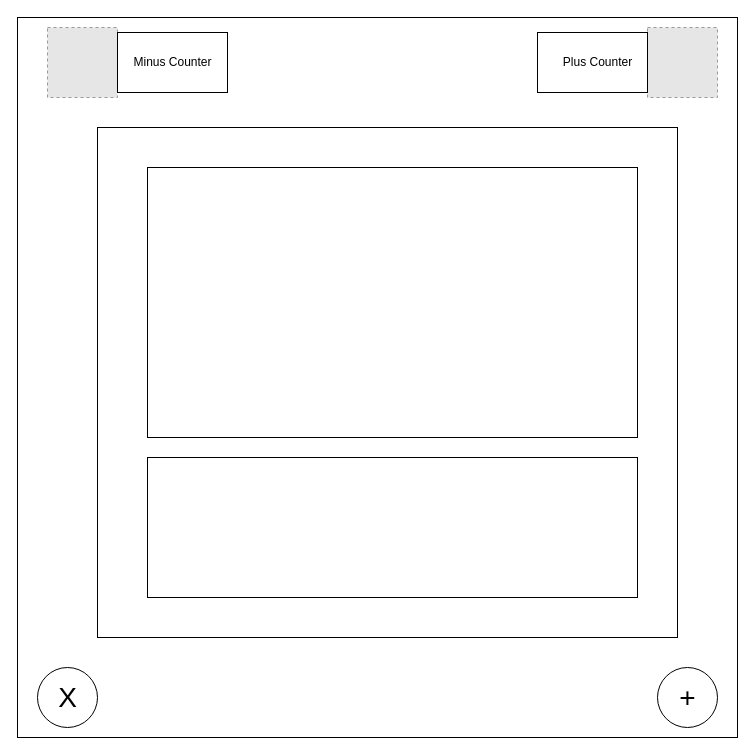
Some shapes in this 755 by 755 pixel diagram are drawn without their labels. Grey dashed boxes stand in for pictures. Here are the shapes that lost their labels. From the top down, the centre of each, then its label:
At point 392,302: "Image".
At point 392,527: "Title / Name".
